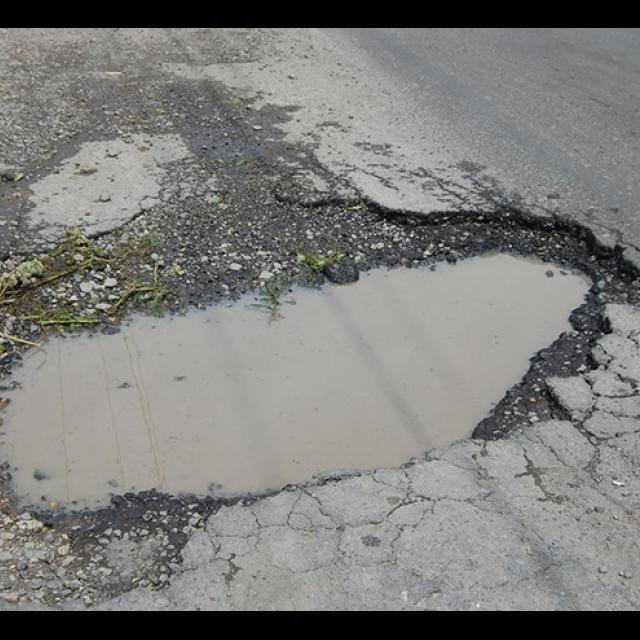lubang_kecil: (0, 176, 640, 535), (589, 312, 640, 515)
